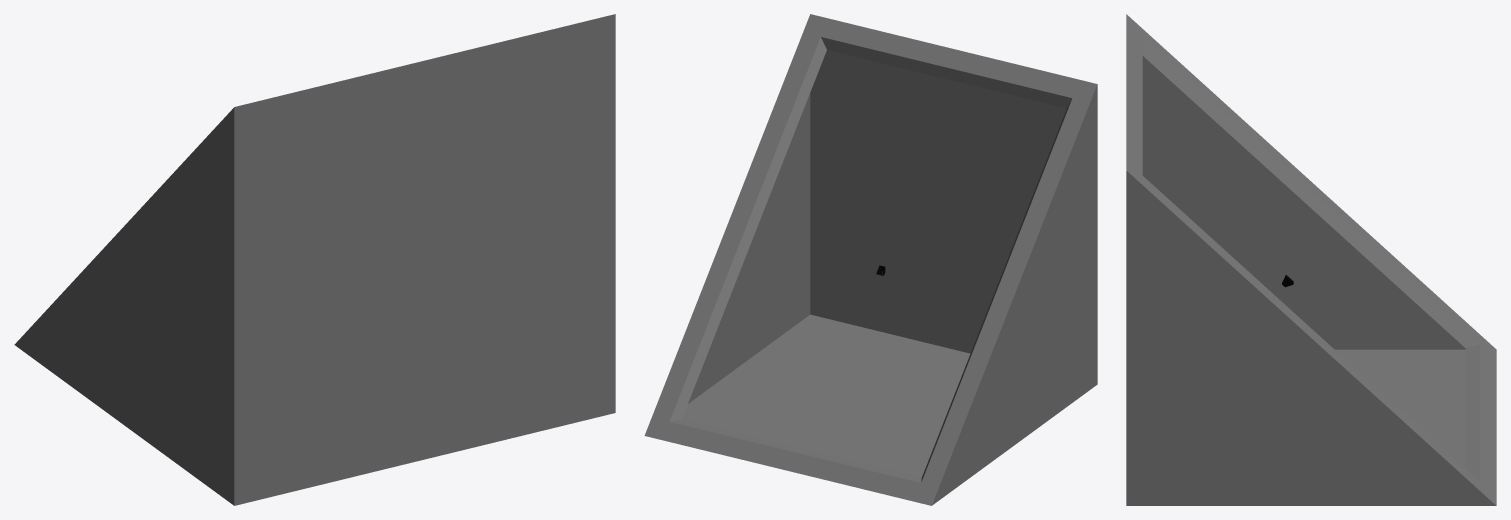
The model's file is Light_Deng3_1X1_off.FBX.
The picture shows the model from 3 angles, left to right: view 1: azimuth 30°, elevation 25°; view 2: azimuth 150°, elevation 25°; view 3: azimuth 270°, elevation 25°; orthographic projection. The views are drawn at different scales.
Parts seen in each view (by area): view 1: Box002; view 2: Box002; view 3: Box002.
Boxes of the visible parts, x1,y1,x2,y2 form: Box002: [14, 14, 615, 505]; Box002: [644, 14, 1097, 505]; Box002: [1126, 14, 1496, 505].
Size of the model in its own units: 1 by 1 by 1.
